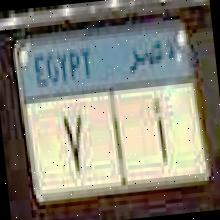7: (58, 105, 90, 176)
alif: (150, 93, 170, 167)
